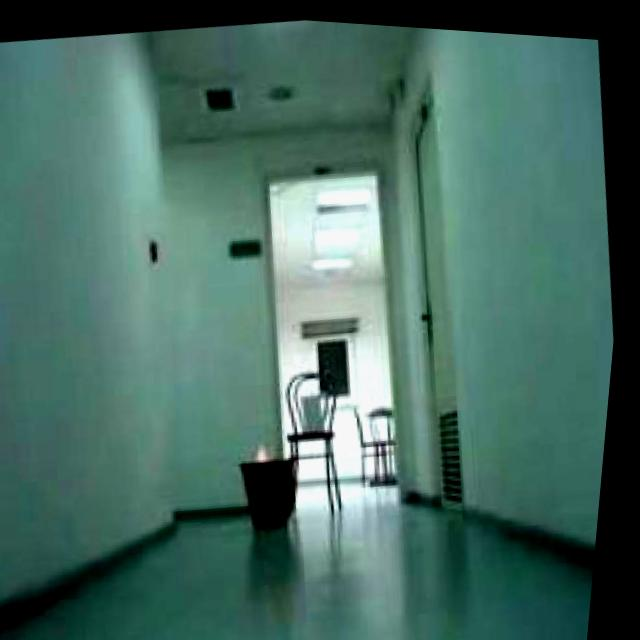Fire: (256, 437, 279, 460)
